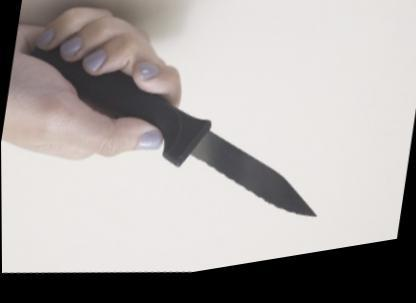knife: (51, 11, 346, 270)
